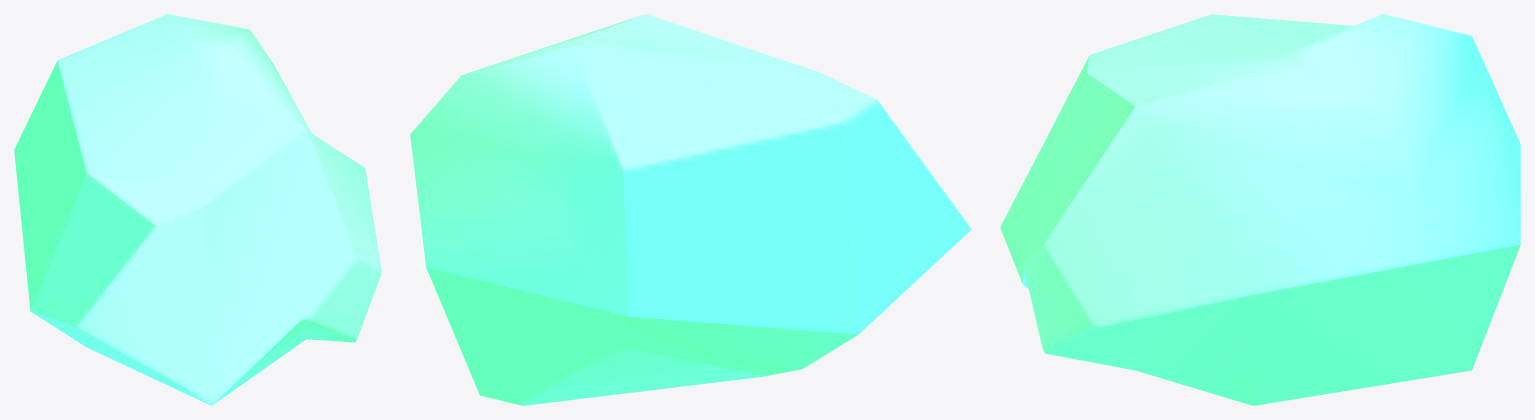
Rendered from OreRock06_Model (1).fbx.
The picture shows the model from 3 angles, left to right: view 1: azimuth 30°, elevation 25°; view 2: azimuth 150°, elevation 25°; view 3: azimuth 270°, elevation 25°; orthographic projection. The views are drawn at different scales.
Parts seen in each view (by area): view 1: pSphere1; view 2: pSphere1; view 3: pSphere1.
Part boxes in pixels (x1,y1,x2,y2): pSphere1: (14, 14, 381, 405); pSphere1: (410, 14, 971, 405); pSphere1: (1000, 14, 1520, 405).
Bounding box in the file's own units: 0.9422 × 0.6738 × 0.9584.
